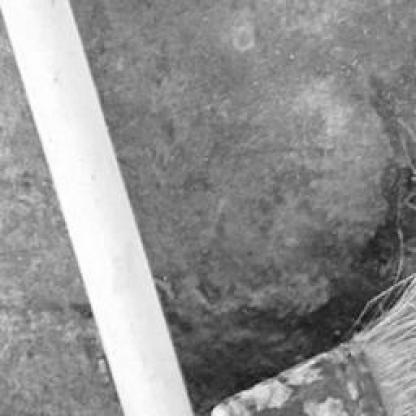PVC: (2, 2, 194, 414)
